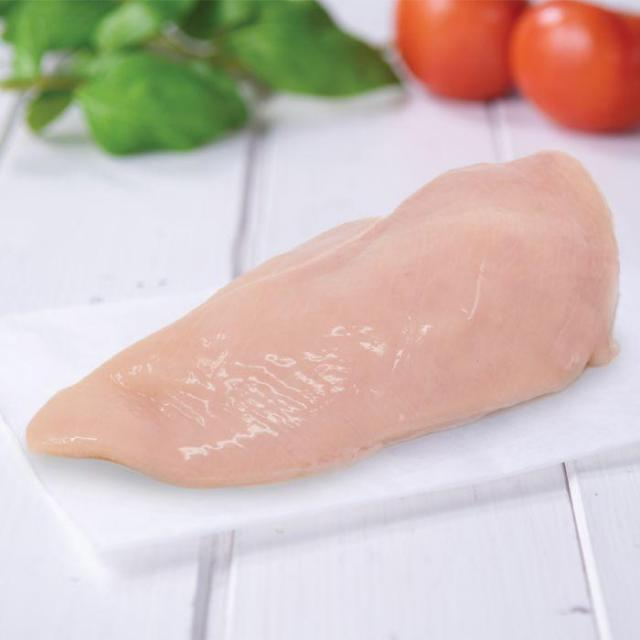Chicken: (24, 145, 623, 484)
